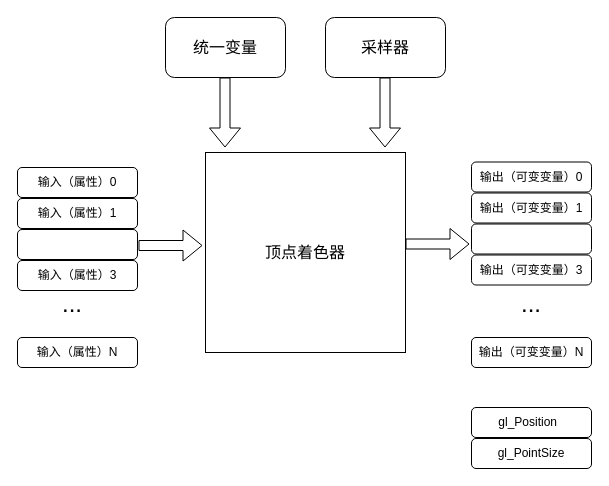
This 609x486 diagram has some shape labels left out. The shapes that lost their labels are listed below. From the top down, each one's centre as x and y in pixels, then its label:
At point 77,244: "输入（属性）2".
At point 531,238: "输出（可变变量）2".
